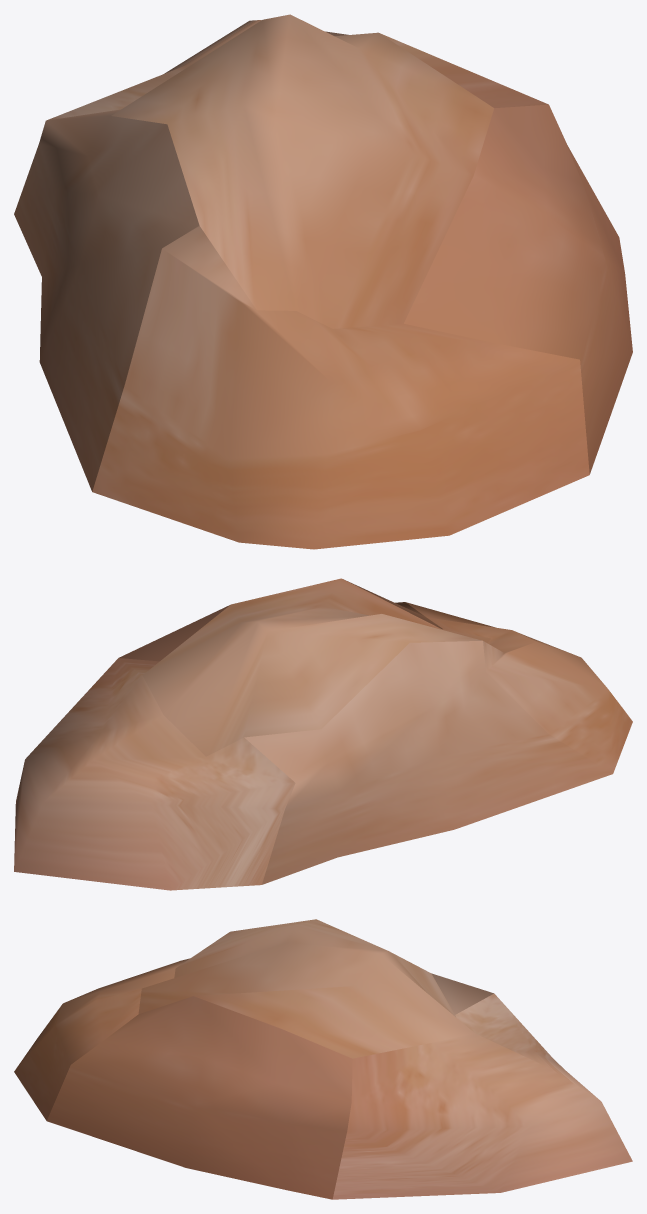
File: sand_mitame_rock_small.fbx
3 renders of one model, top to bottom at view 1: azimuth 30°, elevation 25°; view 2: azimuth 150°, elevation 25°; view 3: azimuth 270°, elevation 25°, orthographic. The views are drawn at different scales.
Parts seen in each view (by area): view 1: desert_rock_small; view 2: desert_rock_small; view 3: desert_rock_small.
Part boxes in pixels (x1=…): desert_rock_small: x1=14, y1=14, x2=632, y2=549; desert_rock_small: x1=14, y1=578, x2=632, y2=890; desert_rock_small: x1=14, y1=919, x2=632, y2=1199.
Size of the model in its own units: 25.63 by 9.86 by 34.59.
